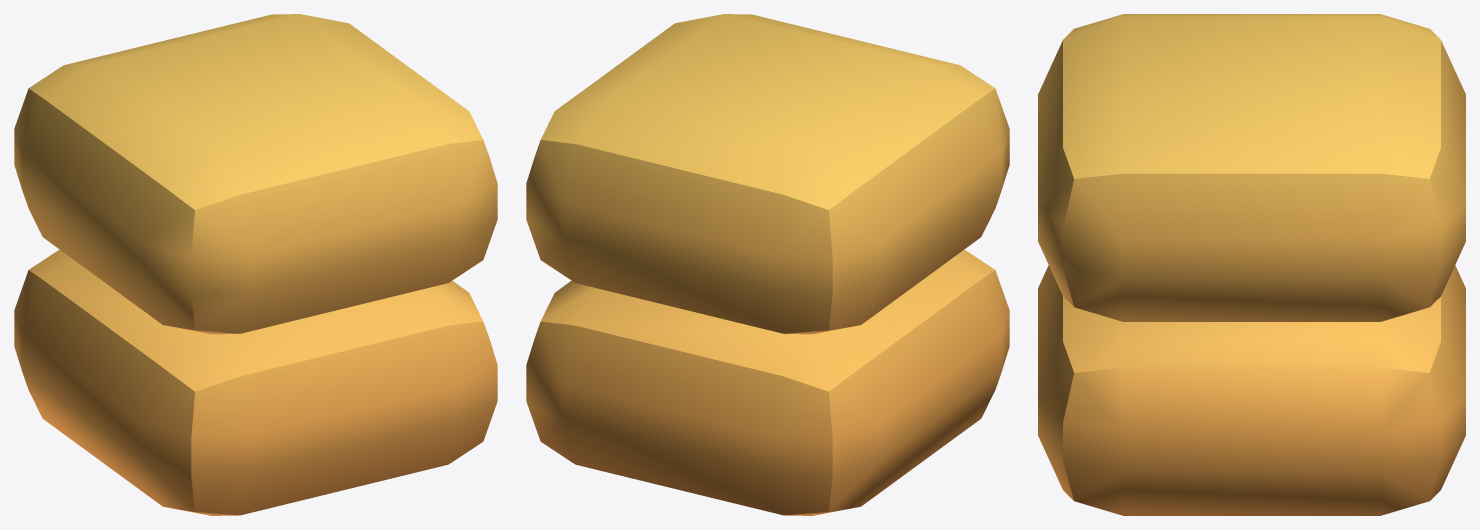
The model's file is barrier_1x1x1_yellow.glb.
The picture shows the model from 3 angles, left to right: view 1: azimuth 30°, elevation 25°; view 2: azimuth 150°, elevation 25°; view 3: azimuth 270°, elevation 25°; orthographic projection. The views are drawn at different scales.
Visible parts, largest first — view 1: barrier_1x1x1_yellow; view 2: barrier_1x1x1_yellow; view 3: barrier_1x1x1_yellow.
Boxes of the visible parts, <box> form: barrier_1x1x1_yellow: <box>14,14,497,515</box>; barrier_1x1x1_yellow: <box>526,14,1009,515</box>; barrier_1x1x1_yellow: <box>1038,14,1465,515</box>.
Bounding box in the file's own units: 1 × 1 × 1.
Materials: 1 (1 with a texture image).
